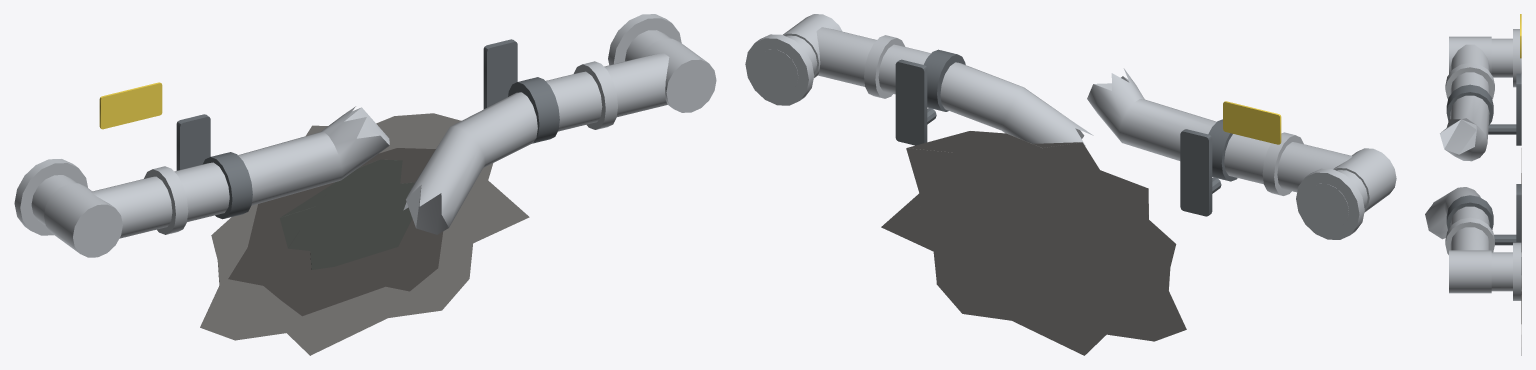
Rendered from SM_DmgPipe.fbx.
The picture shows the model from 3 angles, left to right: view 1: azimuth 30°, elevation 25°; view 2: azimuth 150°, elevation 25°; view 3: azimuth 270°, elevation 25°; orthographic projection. The views are drawn at different scales.
Parts seen in each view (by area): view 1: DmgPipe; view 2: DmgPipe; view 3: DmgPipe.
Part boxes in pixels (x1,y1,x2,y2): DmgPipe: (14,14,716,355); DmgPipe: (745,14,1396,355); DmgPipe: (1425,14,1521,355).
Size of the model in its own units: 1.29 by 0.58 by 0.2225.
